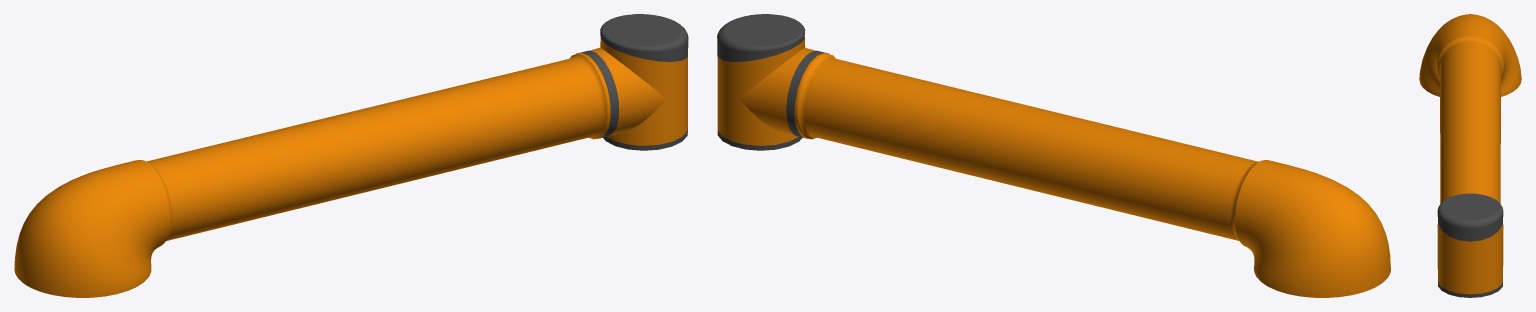
The picture shows the model from 3 angles, left to right: view 1: azimuth 30°, elevation 25°; view 2: azimuth 150°, elevation 25°; view 3: azimuth 270°, elevation 25°; orthographic projection. The views are drawn at different scales.
Visible parts, largest first — view 1: NONE; view 2: NONE; view 3: NONE.
Part boxes in pixels (x1,y1,x2,y2): NONE: (14, 14, 688, 297); NONE: (717, 14, 1390, 297); NONE: (1419, 14, 1521, 297).
Bounding box in the file's own units: 0.844 × 0.152 × 0.1269.
